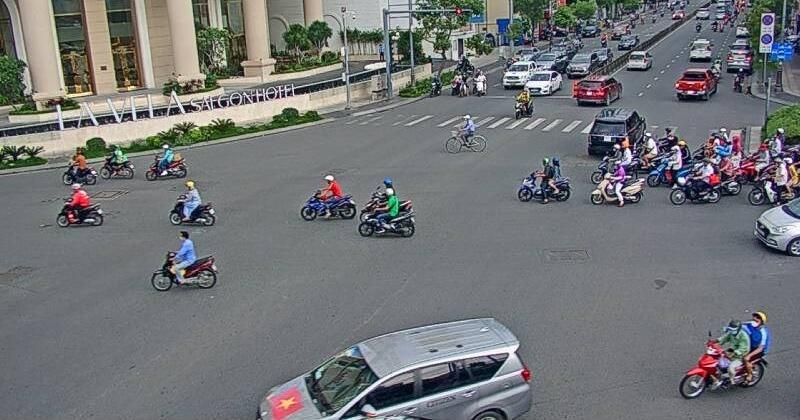xe dap: (444, 114, 487, 154)
xe hoi: (257, 319, 532, 420), (587, 107, 645, 159)
xe may: (677, 310, 768, 401), (151, 229, 218, 292), (357, 189, 415, 237), (299, 174, 356, 221), (517, 156, 571, 203), (590, 160, 645, 206), (669, 157, 721, 204), (168, 181, 216, 227), (55, 183, 104, 228), (144, 144, 187, 181), (61, 150, 97, 186), (99, 144, 134, 180), (514, 87, 534, 120)
